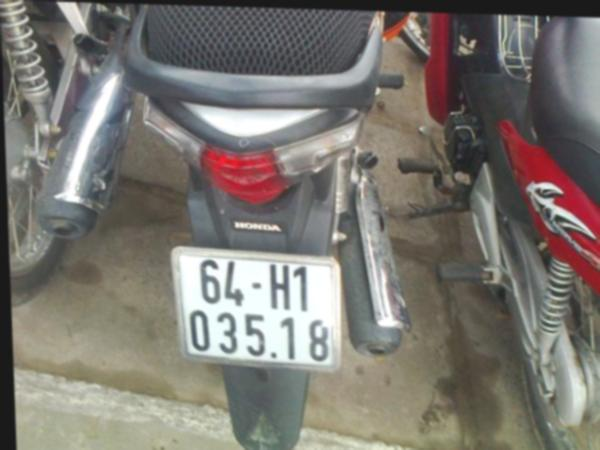License_Plate: (177, 250, 341, 372)
